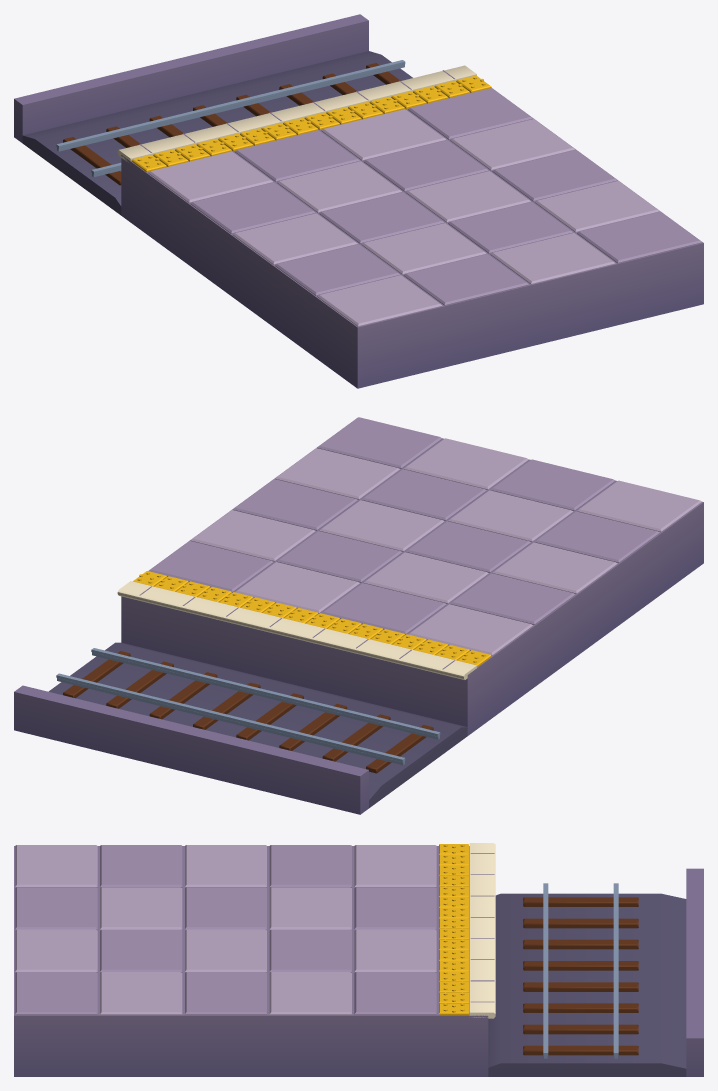
Rendered from platform_tile.glb.
3 renders of one model, top to bottom at view 1: azimuth 30°, elevation 25°; view 2: azimuth 150°, elevation 25°; view 3: azimuth 270°, elevation 25°, orthographic.
Parts seen in each view (by area): view 1: platform_tile; view 2: platform_tile; view 3: platform_tile.
Part boxes in pixels (bbox=[...]): platform_tile: bbox=[14, 14, 703, 388]; platform_tile: bbox=[14, 417, 703, 814]; platform_tile: bbox=[14, 843, 703, 1076].
Bounding box in the file's own units: 8 × 1.43 × 13.75.
